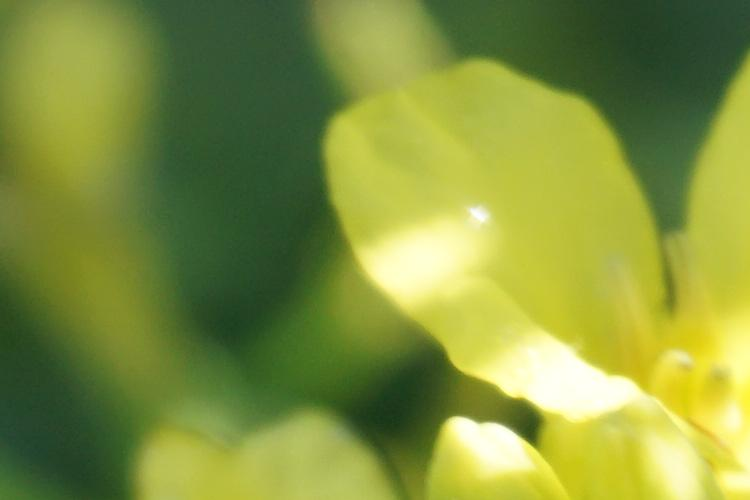yellow: (326, 95, 750, 494)
